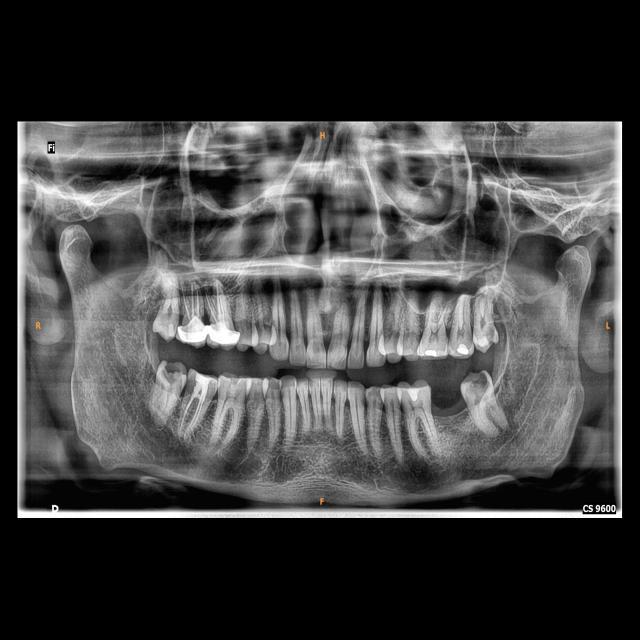dentin-curugu: (468, 374, 491, 402), (160, 360, 182, 386), (186, 372, 196, 397), (486, 326, 499, 341)
dolgu: (196, 372, 214, 397)
kanal-tedavisi: (177, 394, 206, 436), (203, 282, 230, 322), (182, 278, 204, 318)
kaplama: (183, 317, 210, 345), (207, 324, 238, 347)
